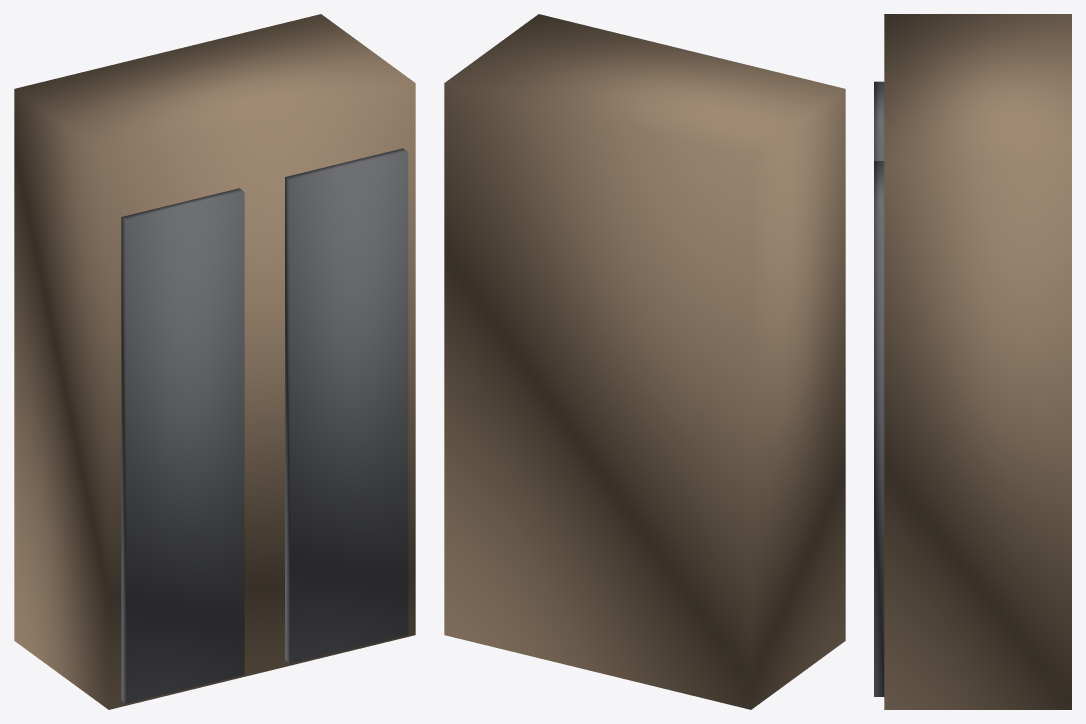
File: confessional_booth__tall.glb
The picture shows the model from 3 angles, left to right: view 1: azimuth 30°, elevation 25°; view 2: azimuth 150°, elevation 25°; view 3: azimuth 270°, elevation 25°; orthographic projection.
Parts seen in each view (by area): view 1: world; view 2: world; view 3: world.
Part boxes in pixels (x1,y1,x2,y2): world: (14,14,415,709); world: (444,14,845,709); world: (874,14,1071,709).
Size of the model in its own units: 1.35 by 2.32 by 0.76.
